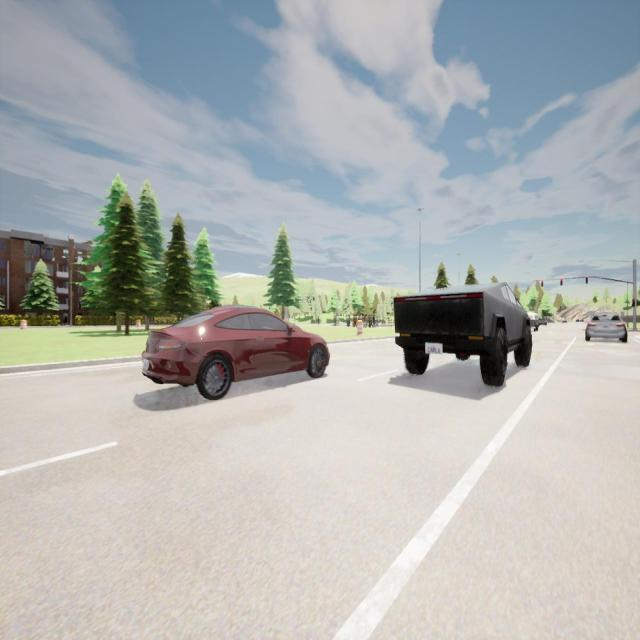Pedestrian: (333, 316, 337, 328), (346, 315, 349, 327), (353, 315, 356, 327), (369, 314, 372, 326), (373, 315, 376, 327), (366, 314, 368, 327), (363, 315, 365, 327), (359, 314, 362, 319), (356, 314, 358, 319)
Vehicle: (142, 306, 329, 399), (394, 281, 531, 388), (584, 313, 628, 342), (529, 312, 538, 332), (538, 318, 547, 326)
traffic_light: (632, 298, 636, 308), (560, 278, 563, 286), (585, 277, 588, 284), (541, 280, 543, 287)
